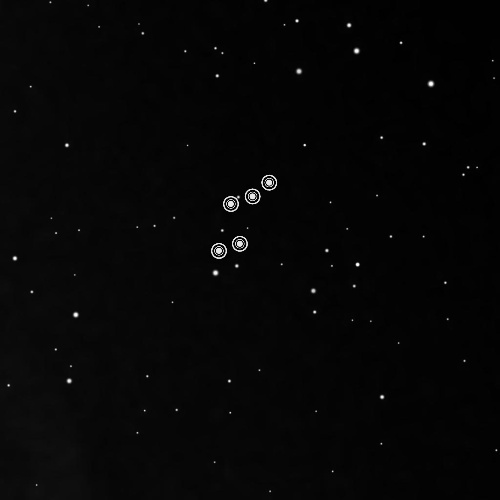lyra: (202, 162, 286, 273)
